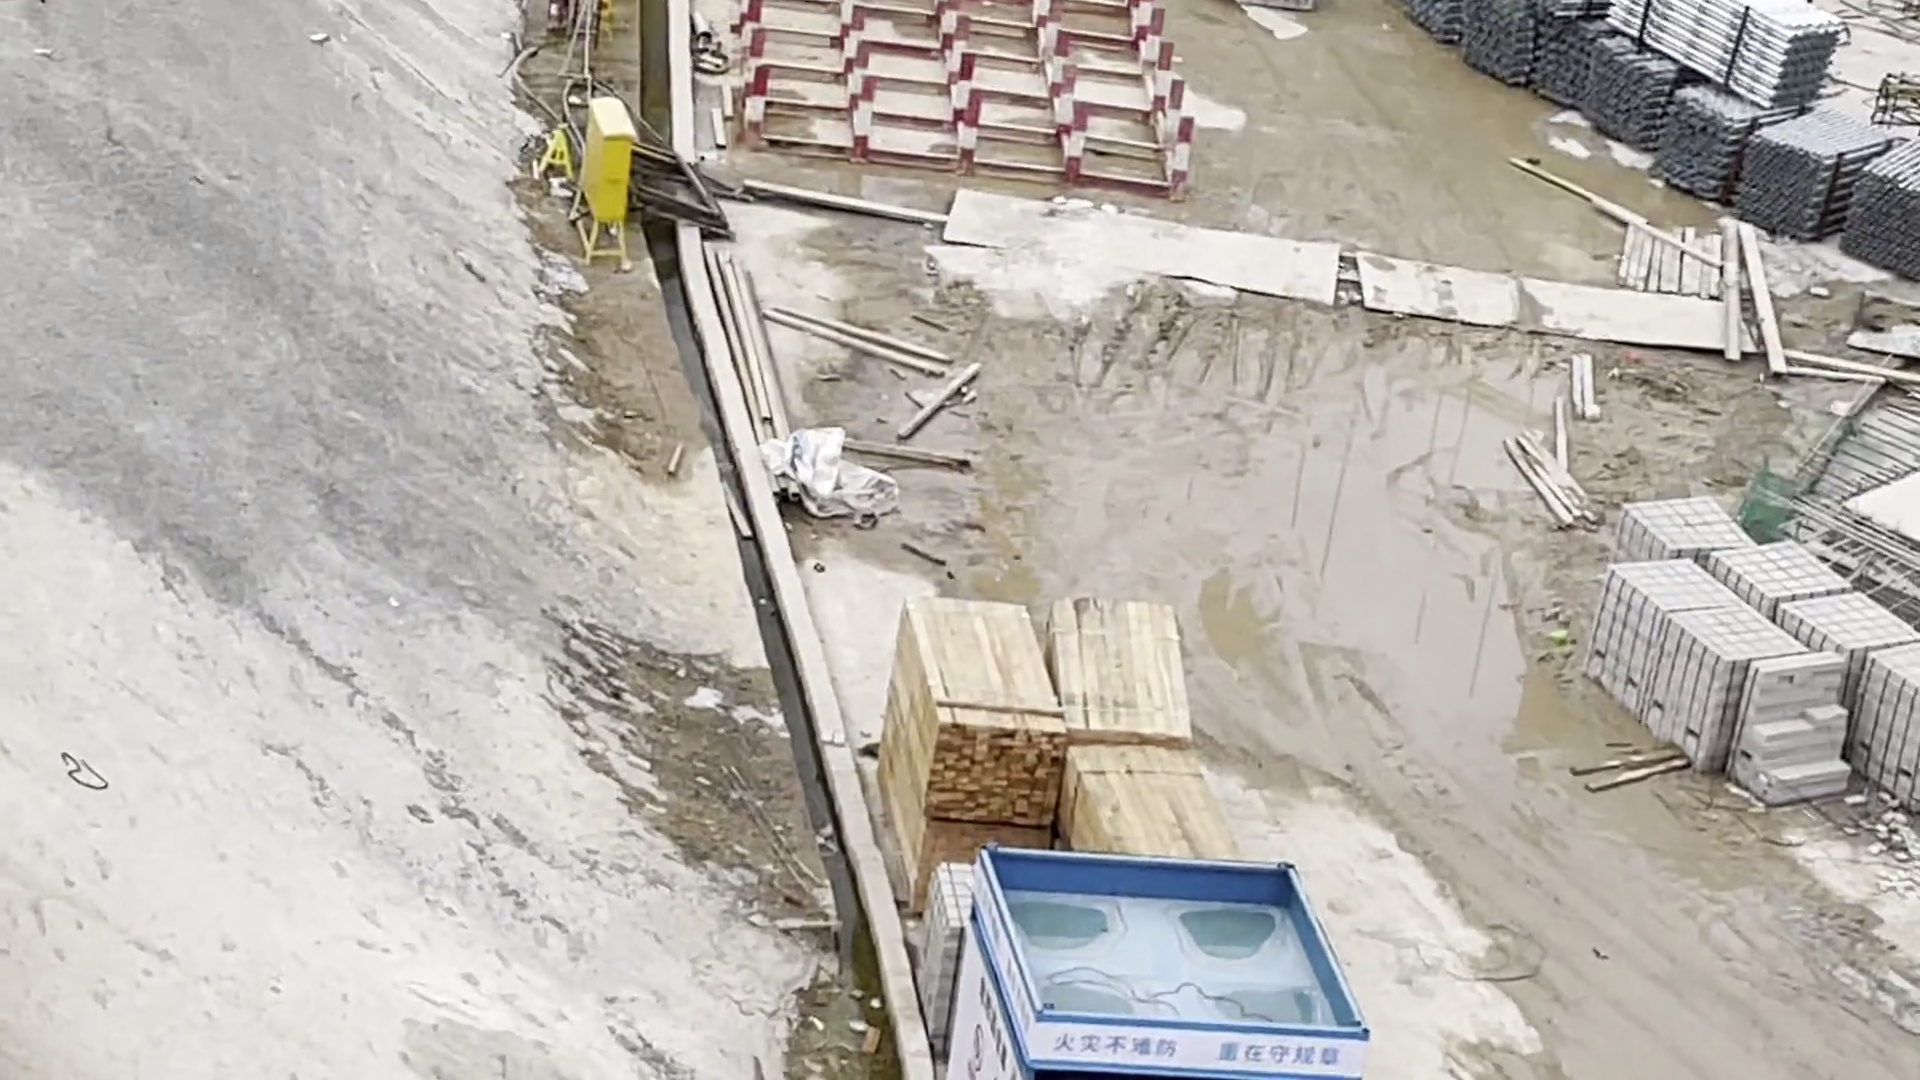brick: (1571, 487, 1920, 816), (903, 847, 977, 1046)
ebox: (558, 78, 645, 262)
scaffold: (1396, 1, 1920, 285)
slogan: (1025, 1005, 1419, 1080), (945, 895, 1034, 1080)
wood: (880, 564, 1341, 876)
